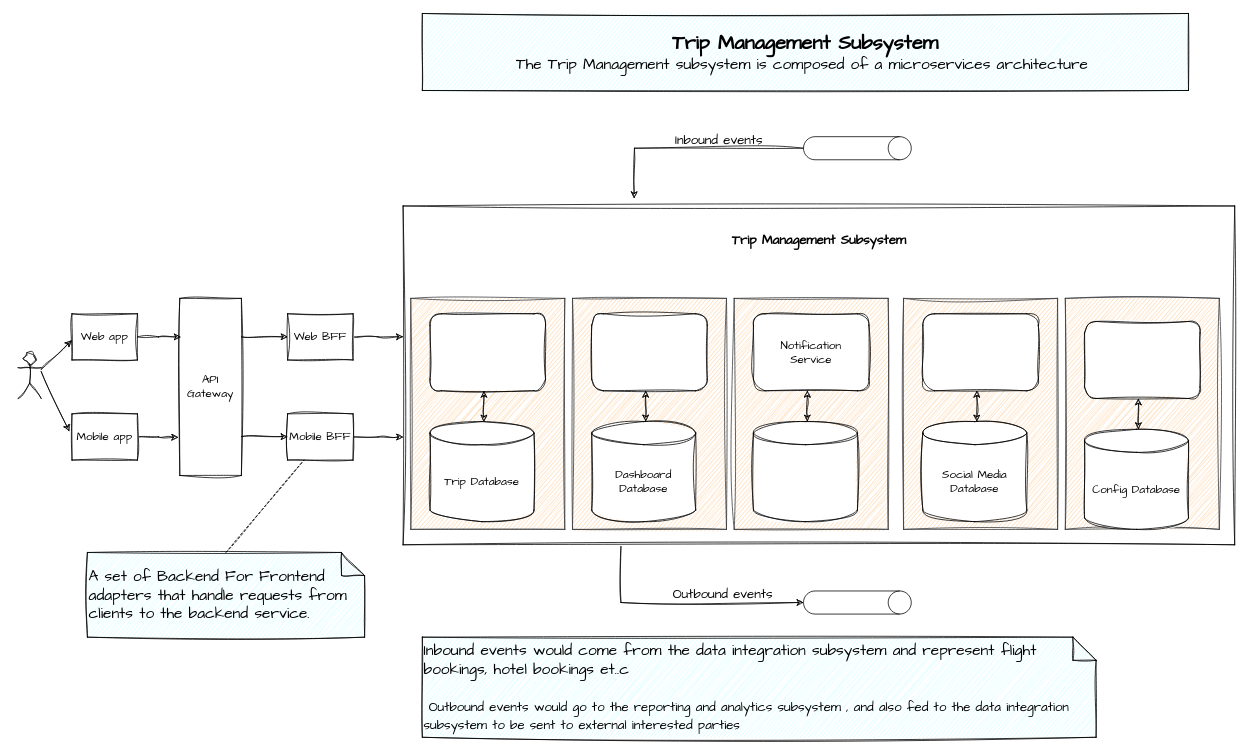
Image size: 1248x751. Some labels were removed from this diagram. The shapes that lost their labels are listed below. From the top down, each one's box as (x1, y1, x2, y2) in pixels, then its label:
(429, 313, 546, 391): Trip Service
(591, 313, 707, 391): Dashboard Service
(922, 313, 1038, 391): Social Media Service
(1084, 321, 1200, 398): Config Service
(17, 352, 41, 398): Actor
(753, 421, 857, 522): Notification Database
